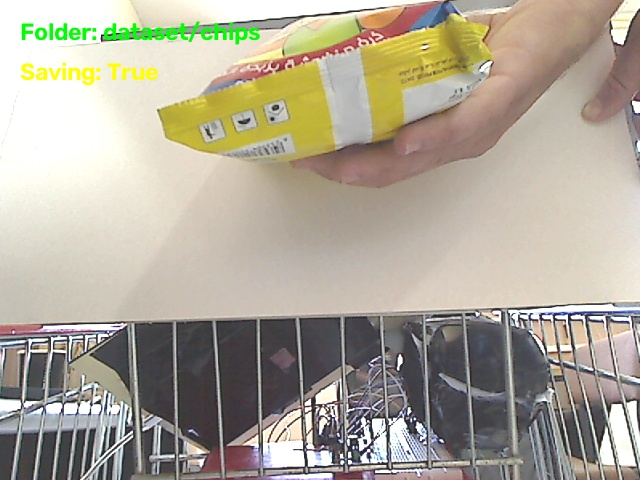chips: (159, 2, 491, 161)
